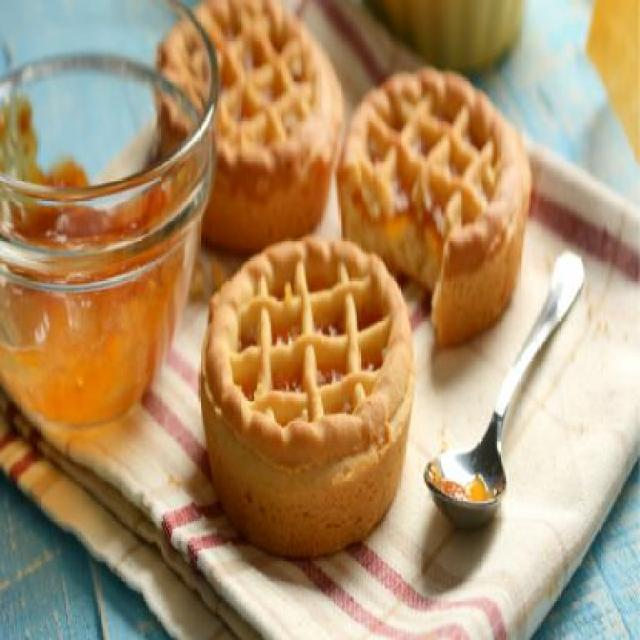Merendine packaged: (199, 230, 418, 566), (334, 58, 536, 354), (152, 3, 343, 243)
